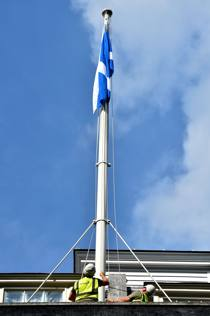Flag: (87, 16, 122, 118)
